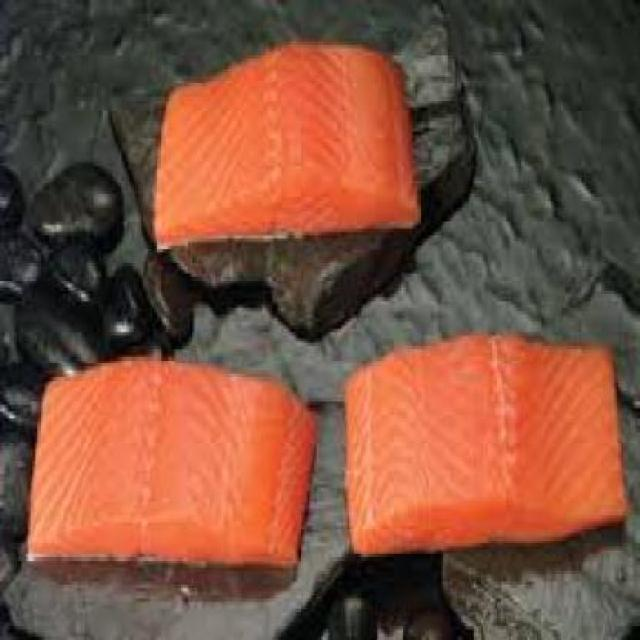salmon: (28, 343, 316, 599), (343, 332, 634, 561), (150, 35, 428, 257)
